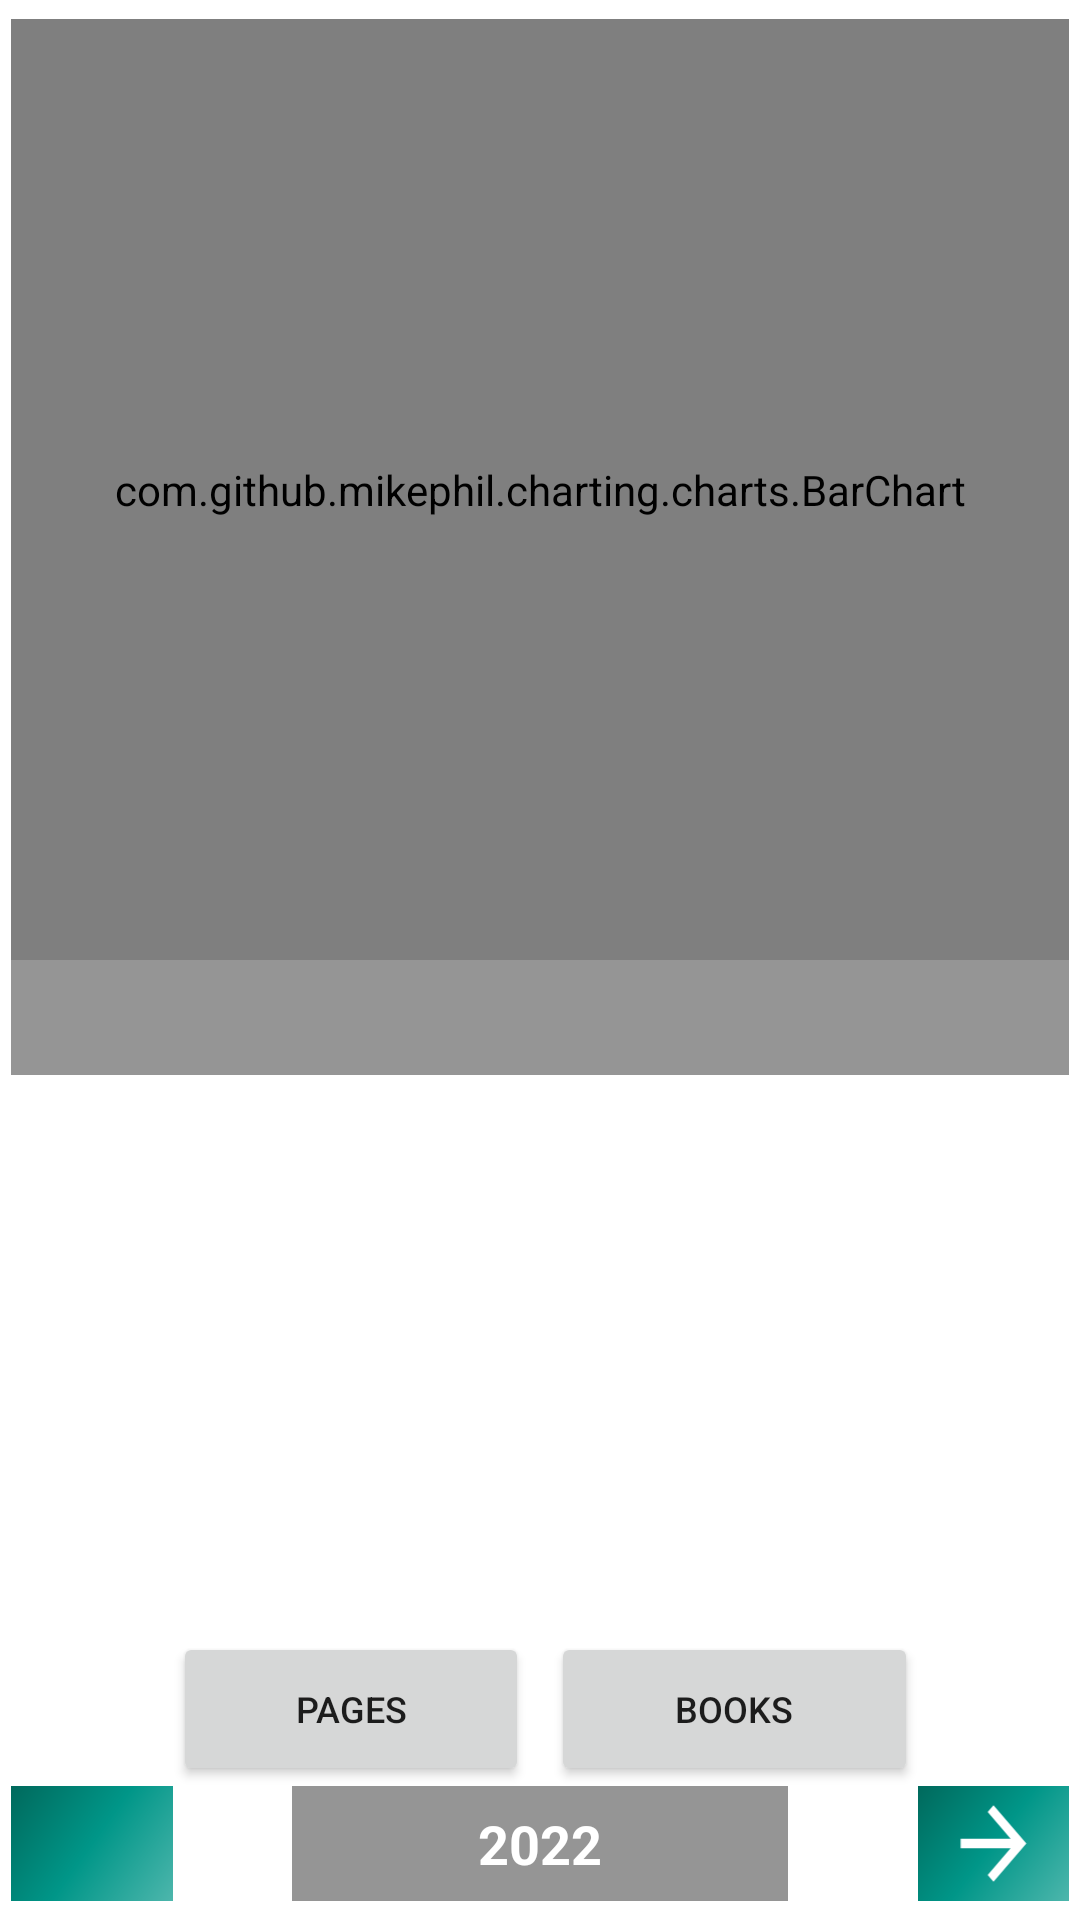

Screen size 1080*1920. Icon name, then its center in pixels as point (x, y):
next: point (993, 1843)
